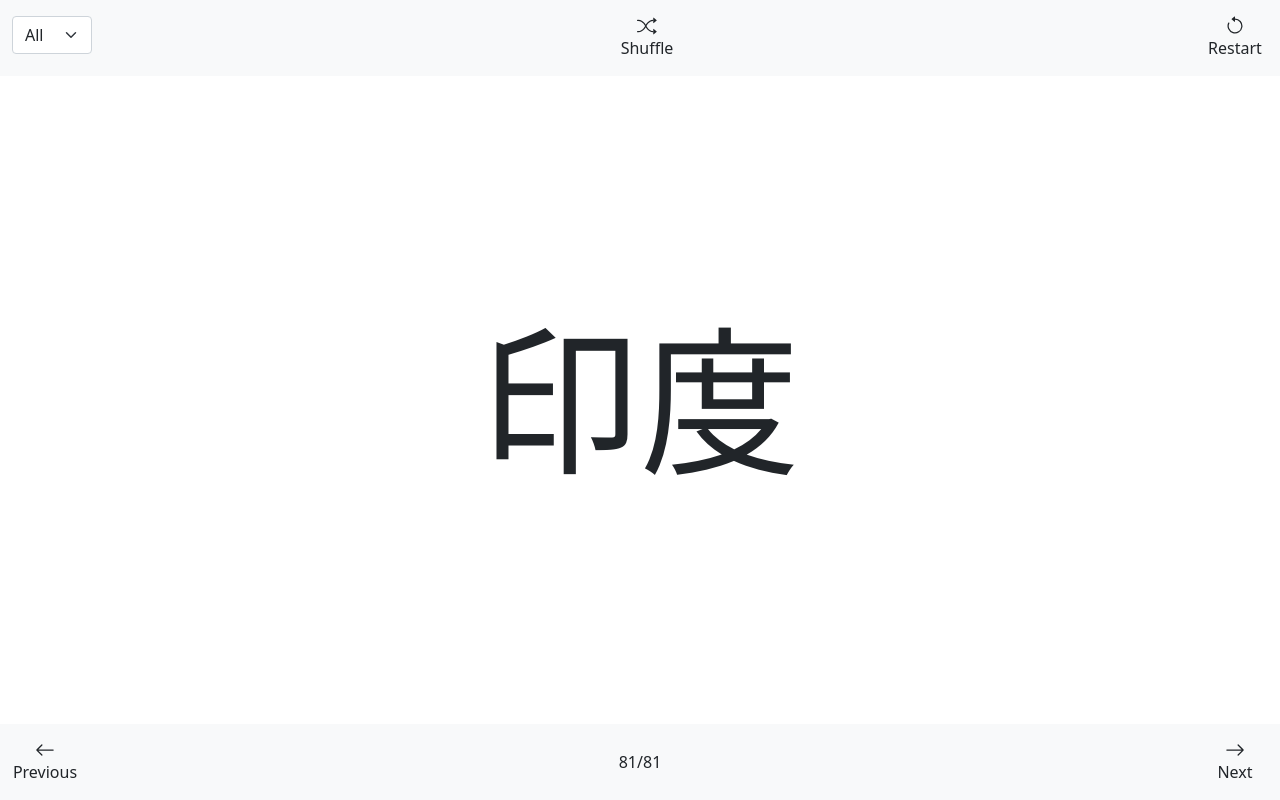
Test case: shows the previous card when the previous button is clicked
Check: the button with class "action-button" reads "Previous", box x1=13 y1=761 x2=77 y2=783
Click the button with class "action-button" showing "Previous" at (45, 762), box x1=12 y1=740 x2=78 y2=784
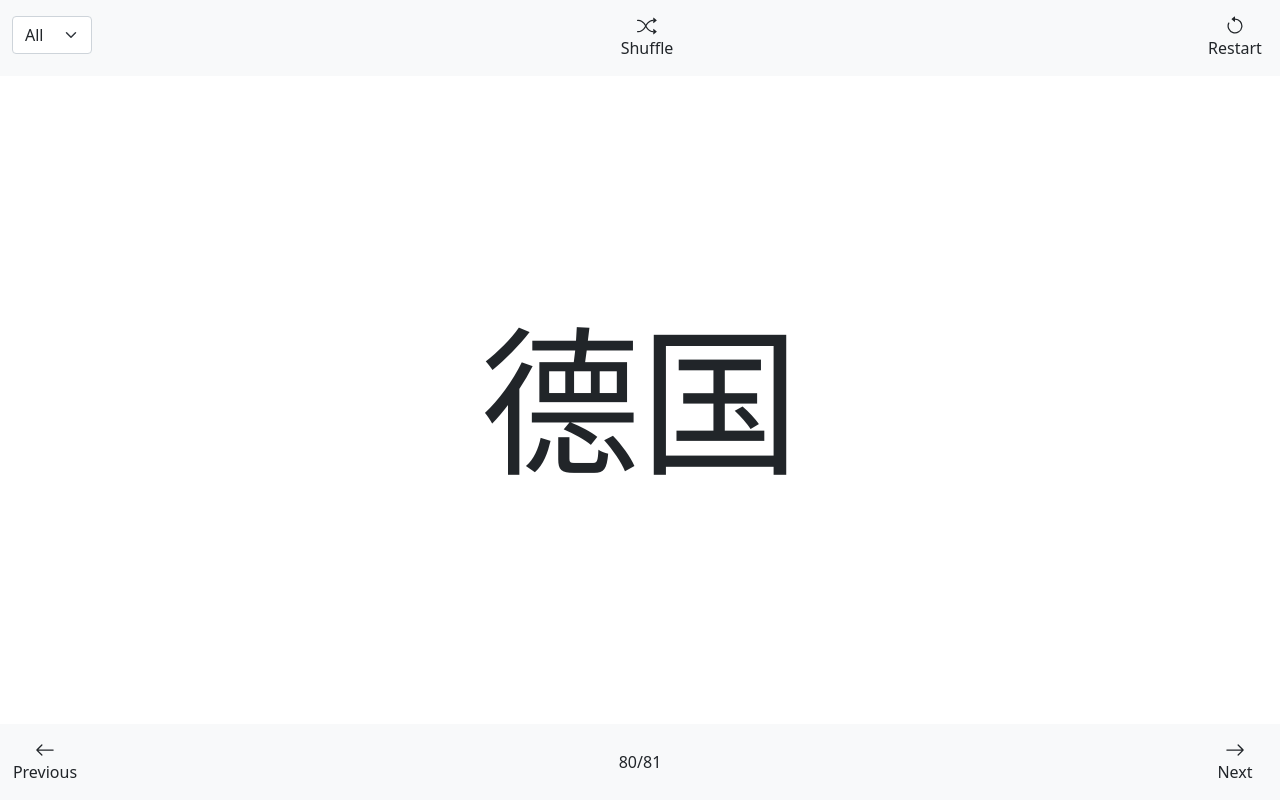
Check: the text with class "flashcard-front" reads "德国", box x1=480 y1=291 x2=800 y2=509
